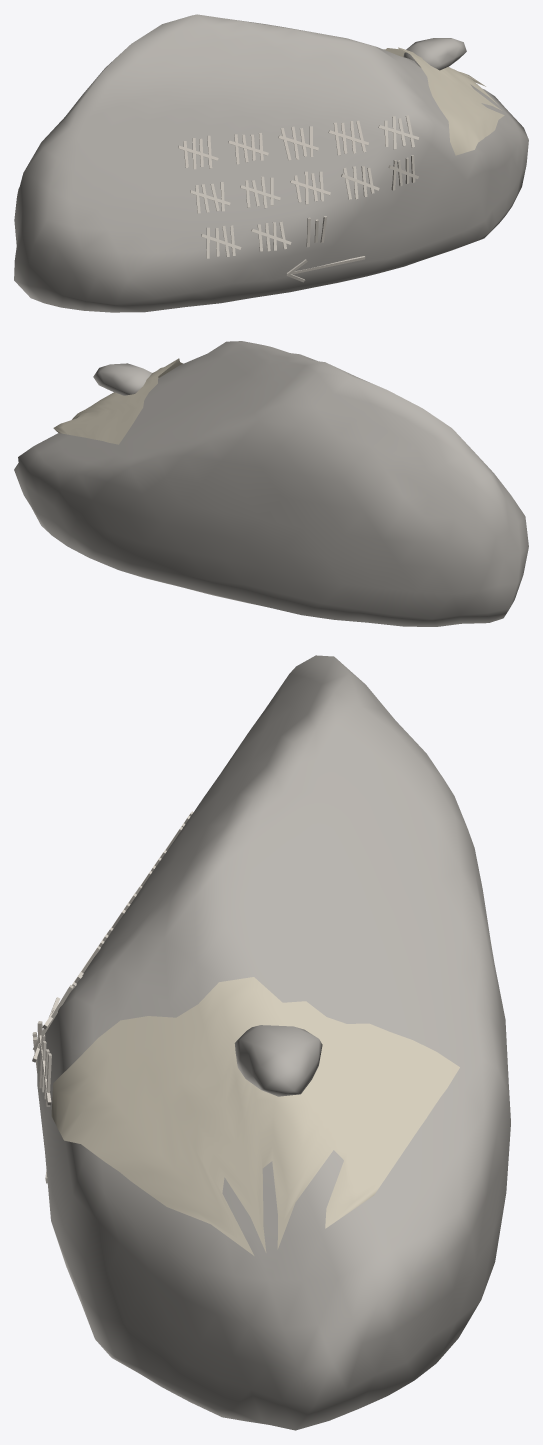
The model's file is PROP_PC_CastawayMarks.fbx.
The picture shows the model from 3 angles, top to bottom: view 1: azimuth 30°, elevation 25°; view 2: azimuth 150°, elevation 25°; view 3: azimuth 270°, elevation 25°; orthographic projection. The views are drawn at different scales.
Visible parts, largest first — view 1: PROP_PC_CastawayMarks_LOD0; view 2: PROP_PC_CastawayMarks_LOD0; view 3: PROP_PC_CastawayMarks_LOD0.
Part boxes in pixels (left/top/right/bottom): PROP_PC_CastawayMarks_LOD0: left=14, top=14, right=528, bottom=312; PROP_PC_CastawayMarks_LOD0: left=14, top=341, right=528, bottom=626; PROP_PC_CastawayMarks_LOD0: left=32, top=655, right=510, bottom=1430.
Size of what is drawn, in the model's own units: 2.42 by 1.12 by 1.01.
